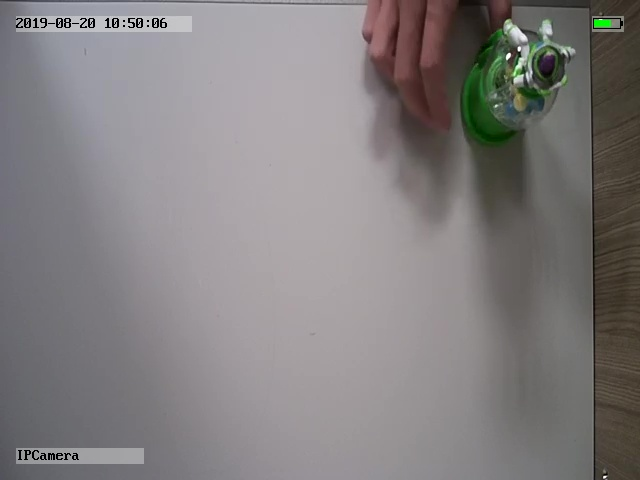buzz: (459, 19, 578, 146)
